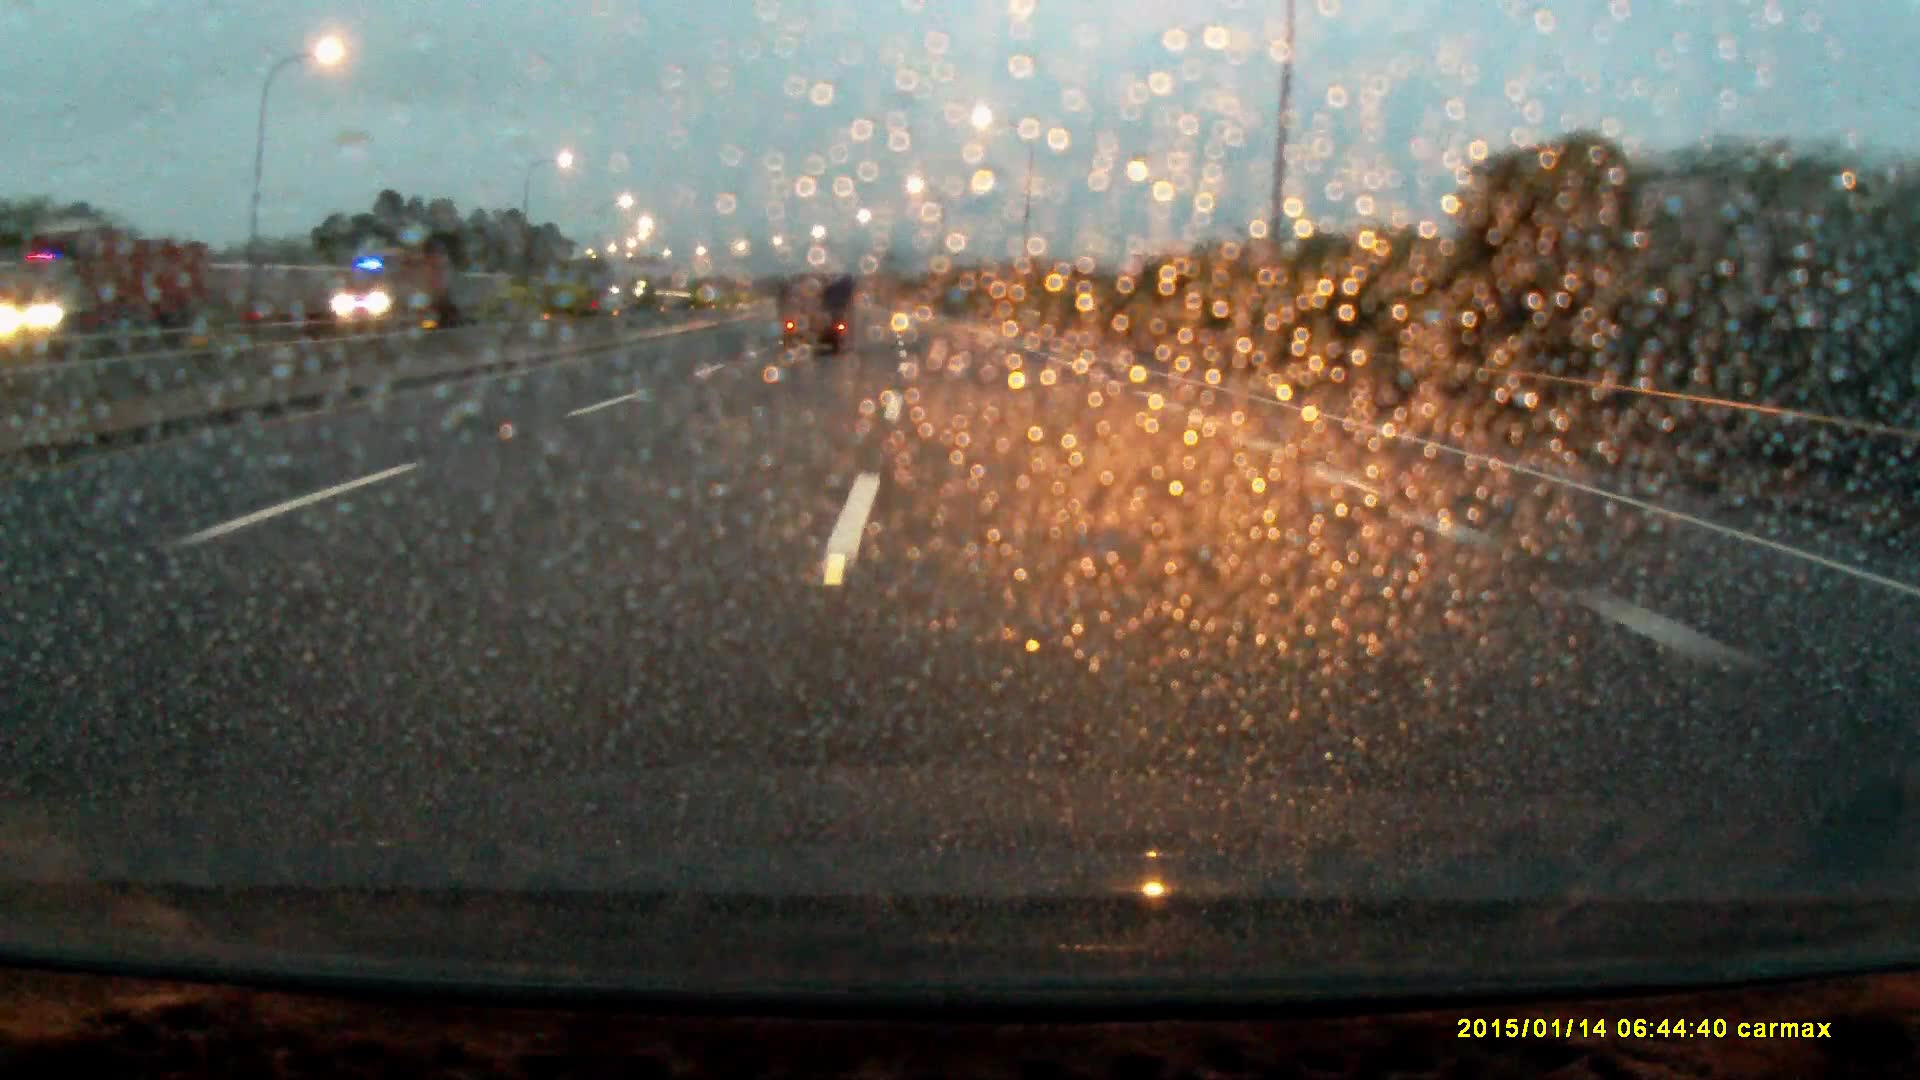vehicle: (330, 251, 450, 320), (777, 273, 857, 360)
